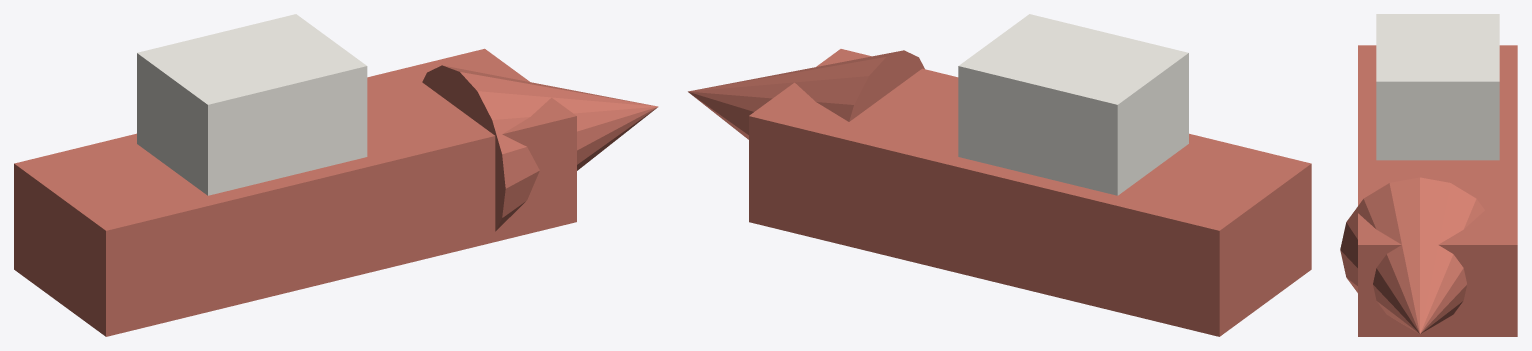
Rendered from atelier_boat.glb.
3 renders of one model, left to right at view 1: azimuth 30°, elevation 25°; view 2: azimuth 150°, elevation 25°; view 3: azimuth 270°, elevation 25°, orthographic. The views are drawn at different scales.
Parts seen in each view (by area): view 1: EXT Boat 0 Hull, EXT Boat 0 Cabin, EXT Boat 0 Bow; view 2: EXT Boat 0 Hull, EXT Boat 0 Cabin, EXT Boat 0 Bow; view 3: EXT Boat 0 Hull, EXT Boat 0 Cabin, EXT Boat 0 Bow.
Part boxes in pixels (bbox=[...]): EXT Boat 0 Hull: bbox=[14, 48, 576, 336]; EXT Boat 0 Cabin: bbox=[137, 14, 367, 195]; EXT Boat 0 Bow: bbox=[422, 65, 658, 231]; EXT Boat 0 Hull: bbox=[749, 49, 1311, 336]; EXT Boat 0 Cabin: bbox=[958, 14, 1188, 195]; EXT Boat 0 Bow: bbox=[688, 50, 924, 139]; EXT Boat 0 Hull: bbox=[1358, 45, 1517, 336]; EXT Boat 0 Cabin: bbox=[1376, 14, 1499, 160]; EXT Boat 0 Bow: bbox=[1340, 177, 1484, 333].
Size of the model in its own units: 1.62 by 0.58 by 0.4892.
